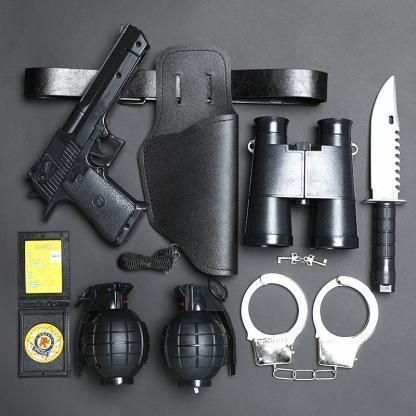Grenade: (159, 277, 237, 389), (73, 282, 152, 387)
Knife: (361, 74, 408, 294)
Pistol: (23, 23, 152, 247)
